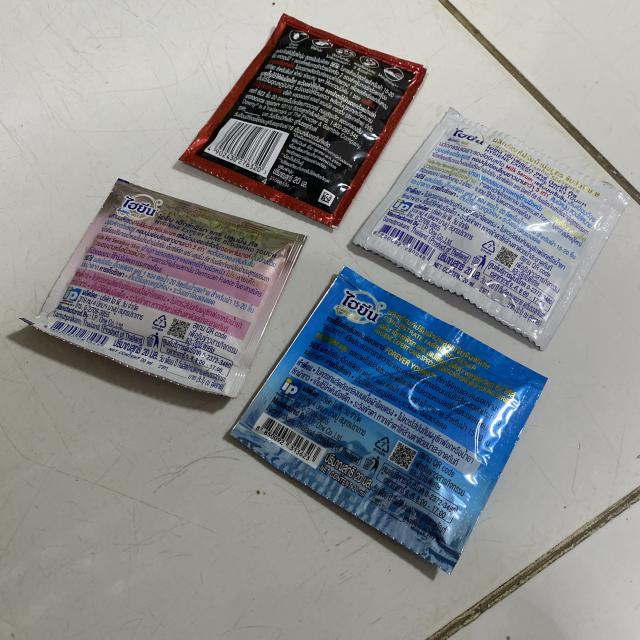plastik: (231, 268, 545, 572), (354, 108, 629, 349), (21, 180, 305, 398), (181, 15, 425, 228)
